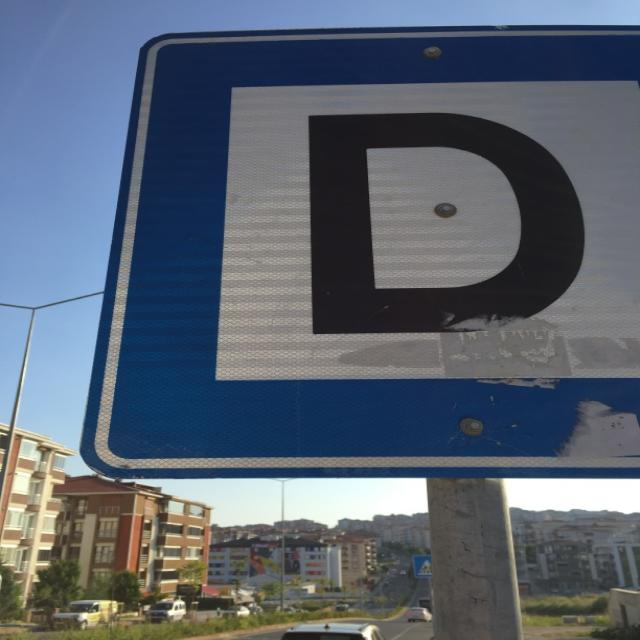durak: (79, 29, 640, 478)
